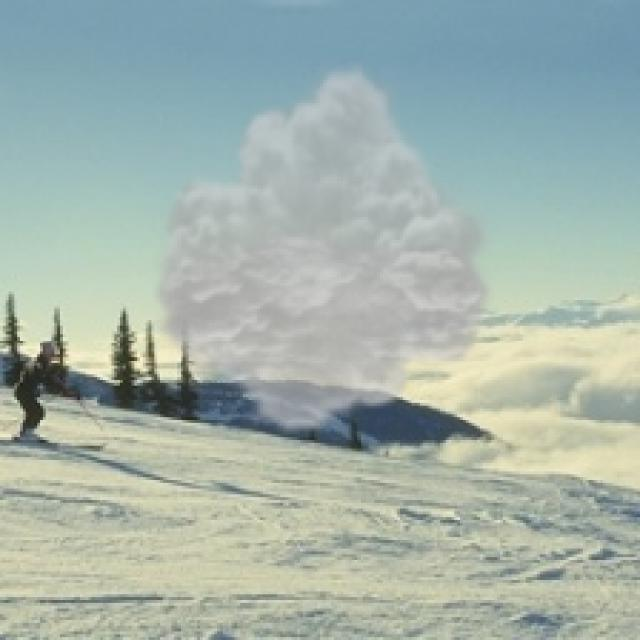smoke: (146, 60, 500, 437)
